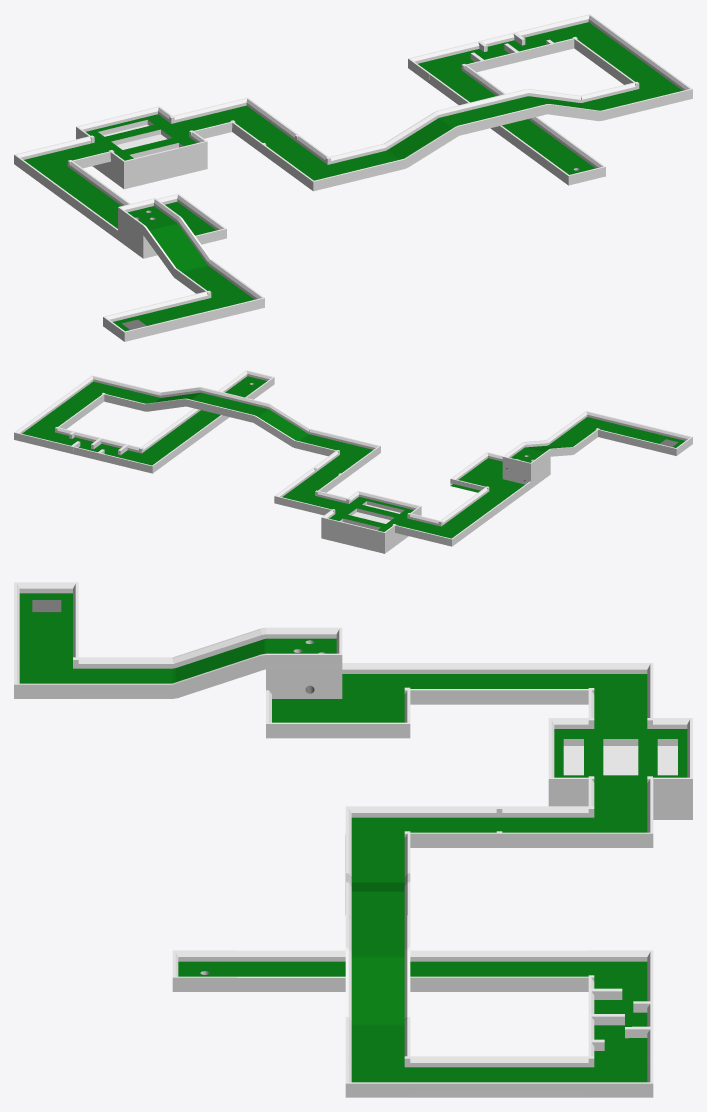
The model's file is Level13Model.obj.
3 views of the same model, one above another, from view 1: azimuth 30°, elevation 25°; view 2: azimuth 150°, elevation 25°; view 3: azimuth 270°, elevation 25° (orthographic). The views are drawn at different scales.
Parts seen in each view (by area): view 1: Level13Model:polySurface656; view 2: Level13Model:polySurface656; view 3: Level13Model:polySurface656.
Boxes of the visible parts, box(x1,y1,x2,y2) form: Level13Model:polySurface656: box(14, 14, 692, 341); Level13Model:polySurface656: box(14, 370, 692, 553); Level13Model:polySurface656: box(14, 582, 692, 1097).
Size of the model in its own units: 40.66 by 2.93 by 23.53.
6 materials, 5 textured.
